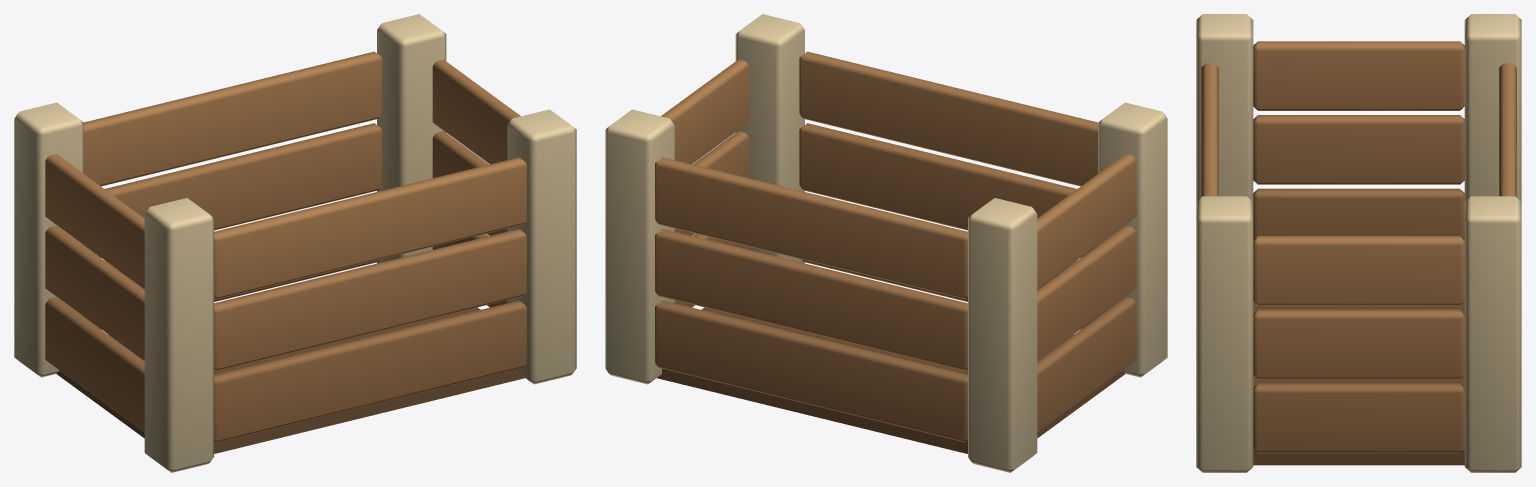
Rendered from SM_Crate_Wood_01.glb.
The picture shows the model from 3 angles, left to right: view 1: azimuth 30°, elevation 25°; view 2: azimuth 150°, elevation 25°; view 3: azimuth 270°, elevation 25°; orthographic projection. The views are drawn at different scales.
Parts seen in each view (by area): view 1: SM_Crate_Wood_01; view 2: SM_Crate_Wood_01; view 3: SM_Crate_Wood_01.
Part boxes in pixels (left/top/right/bottom): SM_Crate_Wood_01: left=14, top=14, right=576, bottom=472; SM_Crate_Wood_01: left=605, top=14, right=1167, bottom=472; SM_Crate_Wood_01: left=1196, top=14, right=1521, bottom=472.
Size of the model in its own units: 0.6 by 0.35 by 0.4.
1 material, 1 textured.
